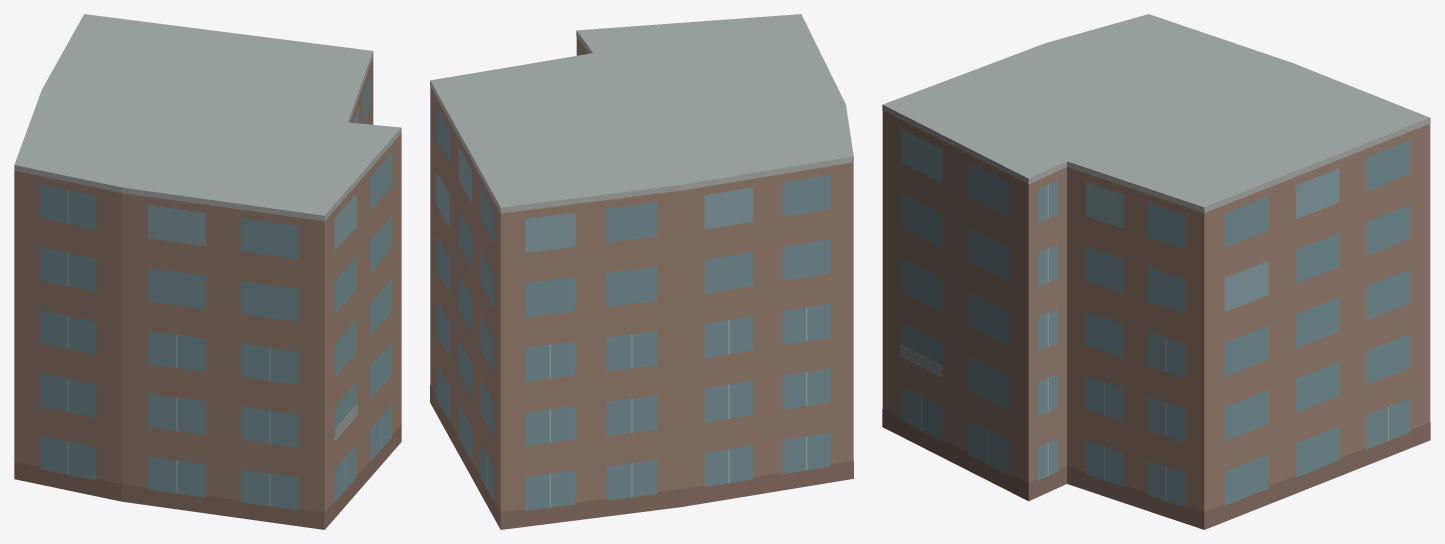
File: survey-upis-32748085.glb
3 views of the same model, side by side, from view 1: azimuth 30°, elevation 25°; view 2: azimuth 150°, elevation 25°; view 3: azimuth 270°, elevation 25° (orthographic). The views are drawn at different scales.
Visible parts, largest first — view 1: survey-upis-32748085.tmp; view 2: survey-upis-32748085.tmp; view 3: survey-upis-32748085.tmp.
Boxes of the visible parts, x1,y1,x2,y2 form: survey-upis-32748085.tmp: (14,14,401,529); survey-upis-32748085.tmp: (430,14,853,529); survey-upis-32748085.tmp: (882,14,1430,529).
Size of the model in its own units: 17.63 by 13.7 by 21.1.
